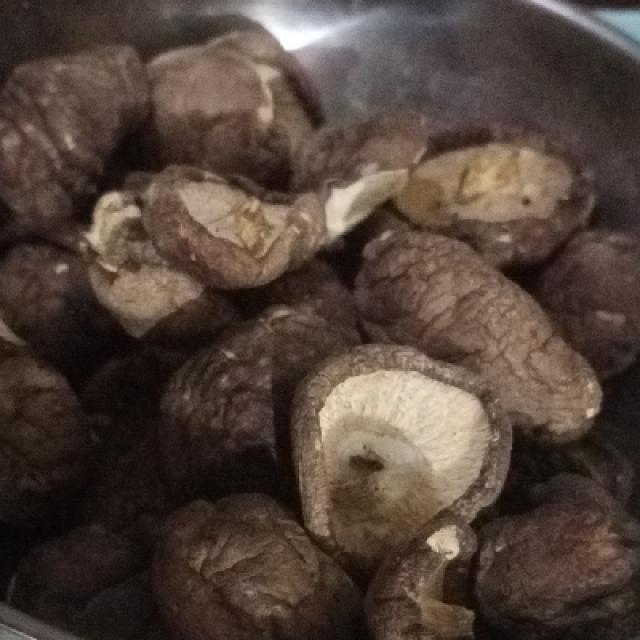Lentinus edodes: (294, 345, 512, 559), (368, 233, 593, 439), (162, 489, 365, 640), (399, 130, 600, 261), (146, 164, 309, 285)
